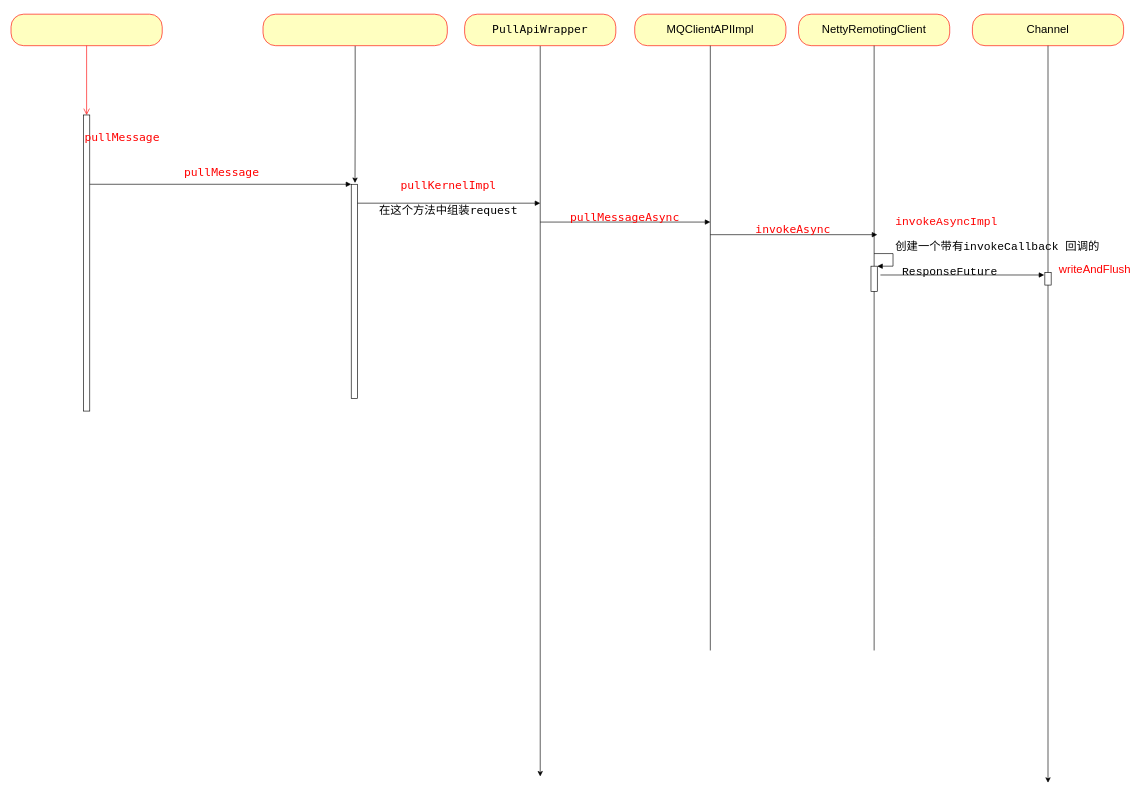
Some shapes in this 1142 by 799 pixel diagram are drawn without their labels. The shapes that lost their labels are listed below. From the top down, each one's centre as x and y in pixels, then its label:
At point 86,30: "PullMessageService".
At point 354,30: "DefaultMQPushConsumerImpl".
